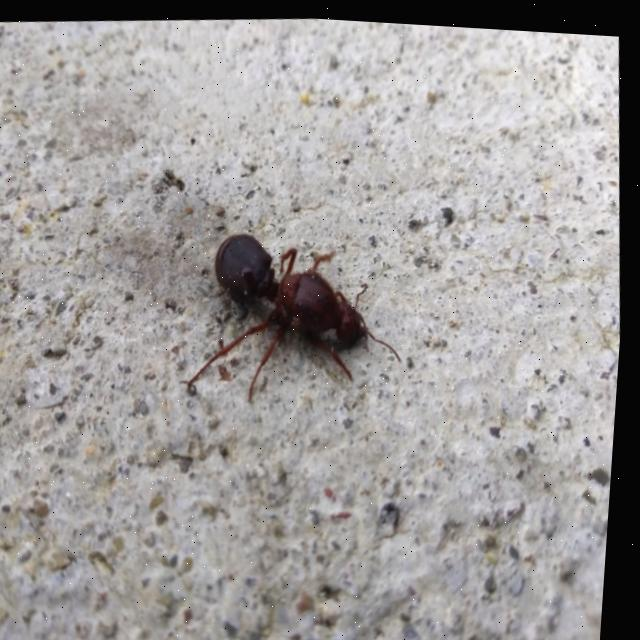Alive-Female-Dealate: (174, 216, 415, 410)
